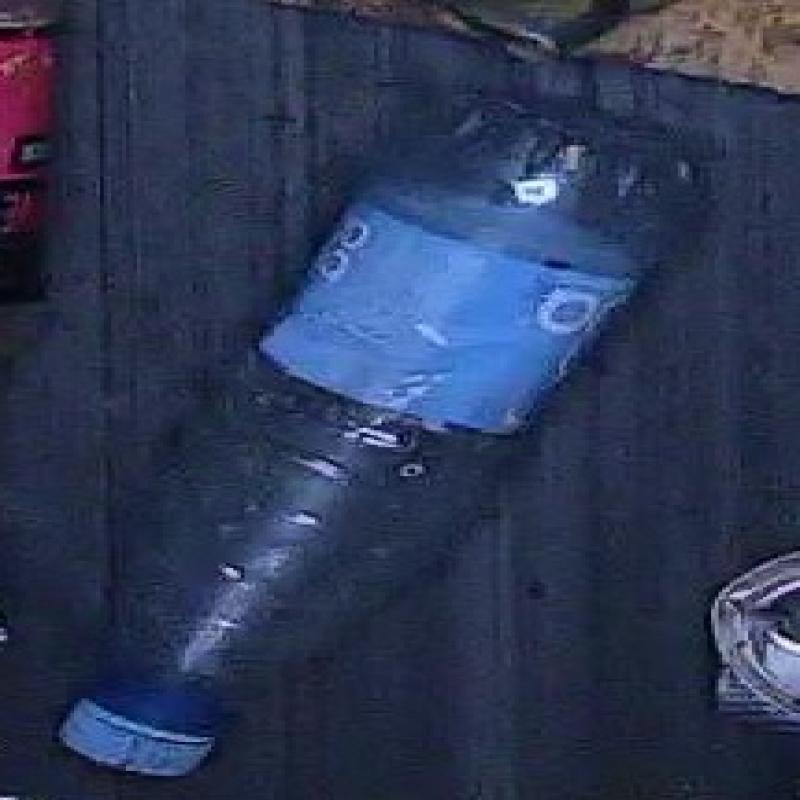botella: (60, 90, 694, 782)
